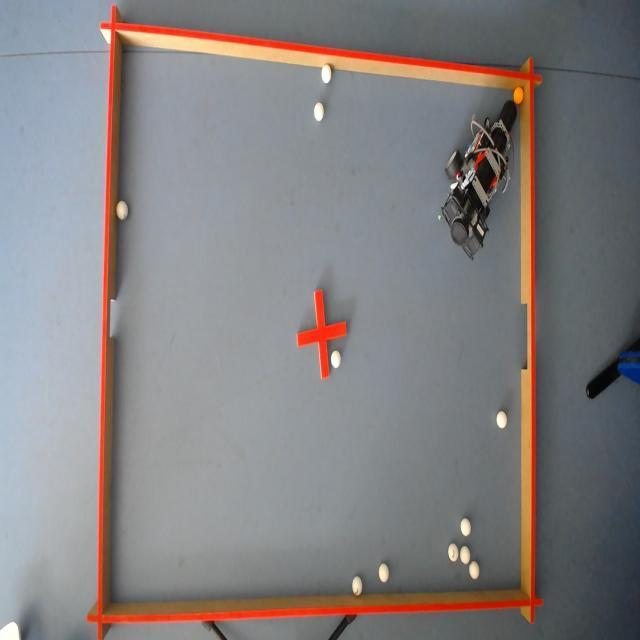orange: (514, 87, 524, 103)
robot: (442, 86, 510, 253)
white: (116, 200, 130, 220), (376, 562, 388, 584), (312, 100, 324, 122), (446, 541, 458, 562), (350, 575, 362, 596), (461, 516, 472, 536), (330, 347, 340, 368), (318, 63, 329, 82), (460, 546, 472, 563), (497, 410, 508, 428), (470, 563, 480, 580)
